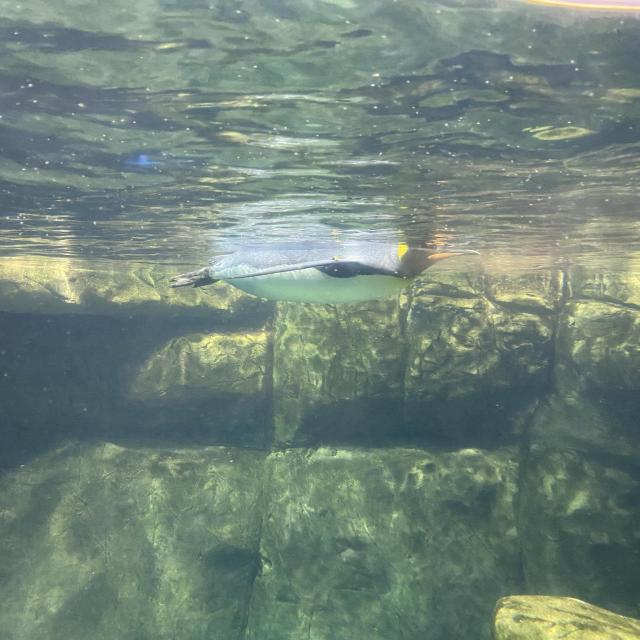penguin: (168, 242, 482, 304)
